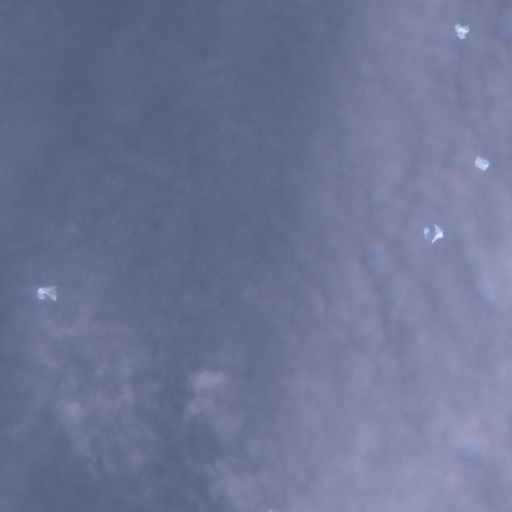Iceberg: (37, 286, 56, 300), (475, 155, 489, 169), (455, 23, 468, 38), (432, 225, 442, 242), (424, 227, 428, 239)
